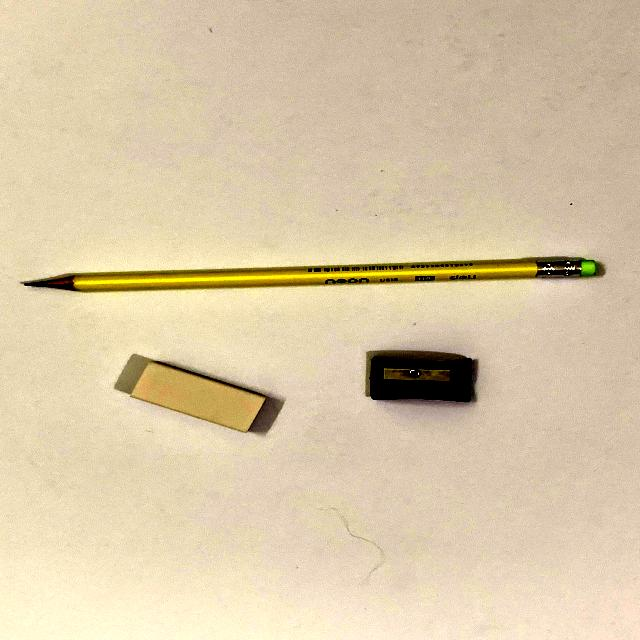Eraser: (106, 352, 303, 448)
Pencil: (17, 245, 626, 299)
Sharpner: (340, 337, 490, 417)
